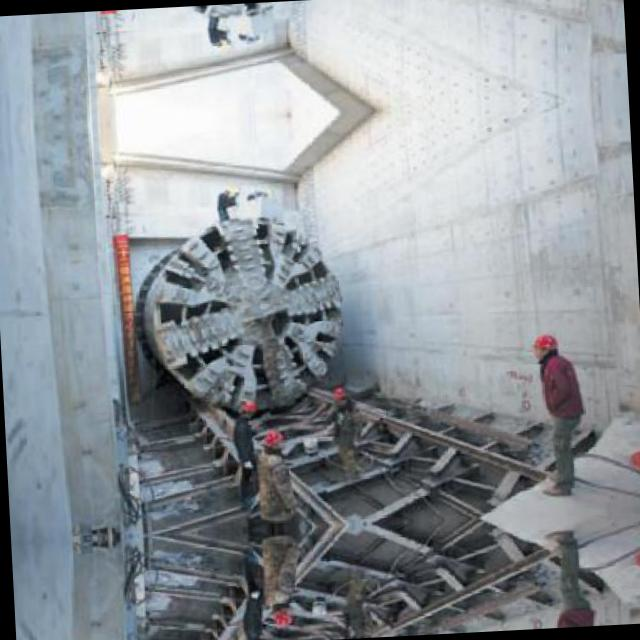helmet: (529, 324, 563, 363), (237, 396, 261, 418), (271, 606, 295, 627), (262, 428, 286, 448), (331, 384, 348, 399)
